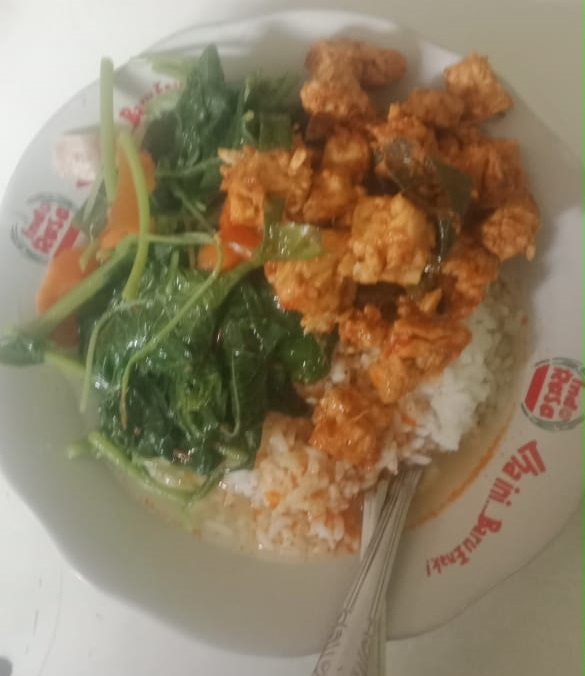Nasi: (271, 419, 449, 560)
Sambel_tempe: (302, 54, 549, 322)
Sayur_bayam: (5, 54, 223, 463)
